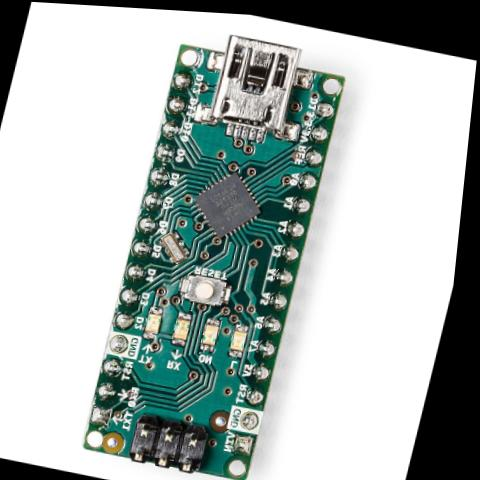Arduino-Nano: (66, 9, 381, 480)
